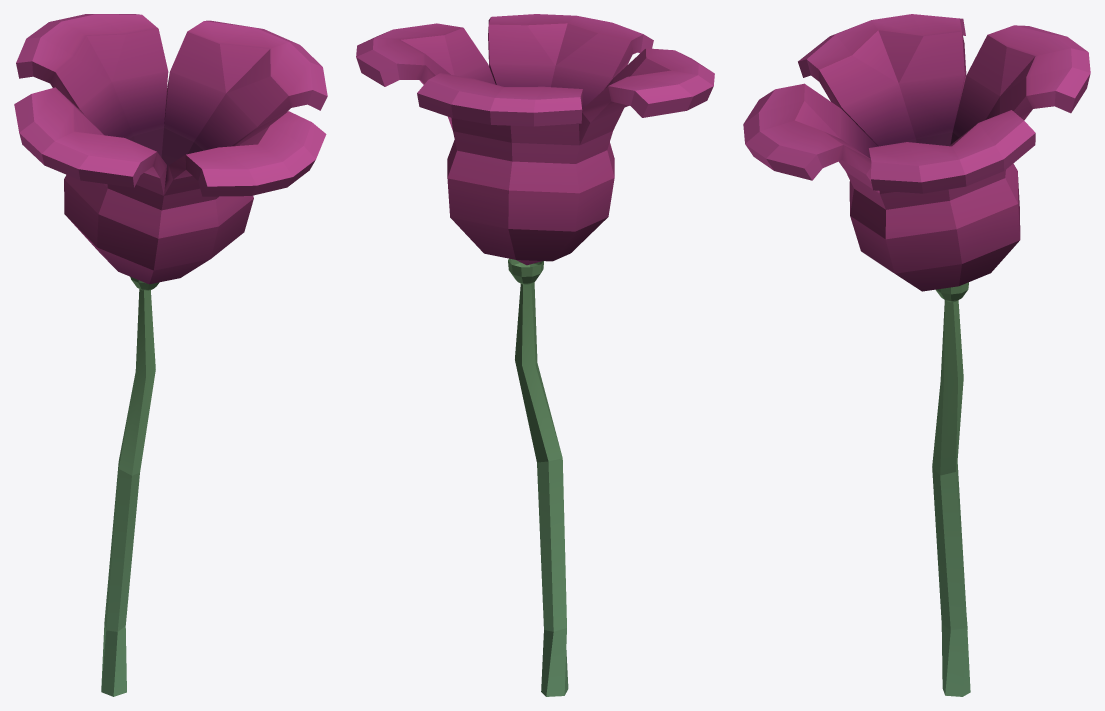
Rendered from UnknownFlowerName03_Pink.fbx.
3 views of the same model, side by side, from view 1: azimuth 30°, elevation 25°; view 2: azimuth 150°, elevation 25°; view 3: azimuth 270°, elevation 25° (orthographic). The views are drawn at different scales.
Visible parts, largest first — view 1: UnknownFlowerName03_Pink; view 2: UnknownFlowerName03_Pink; view 3: UnknownFlowerName03_Pink.
Boxes of the visible parts, x1,y1,x2,y2 form: UnknownFlowerName03_Pink: [14, 14, 327, 696]; UnknownFlowerName03_Pink: [356, 14, 714, 696]; UnknownFlowerName03_Pink: [743, 14, 1090, 696].
Bounding box in the file's own units: 20.52 × 39.92 × 19.47.
